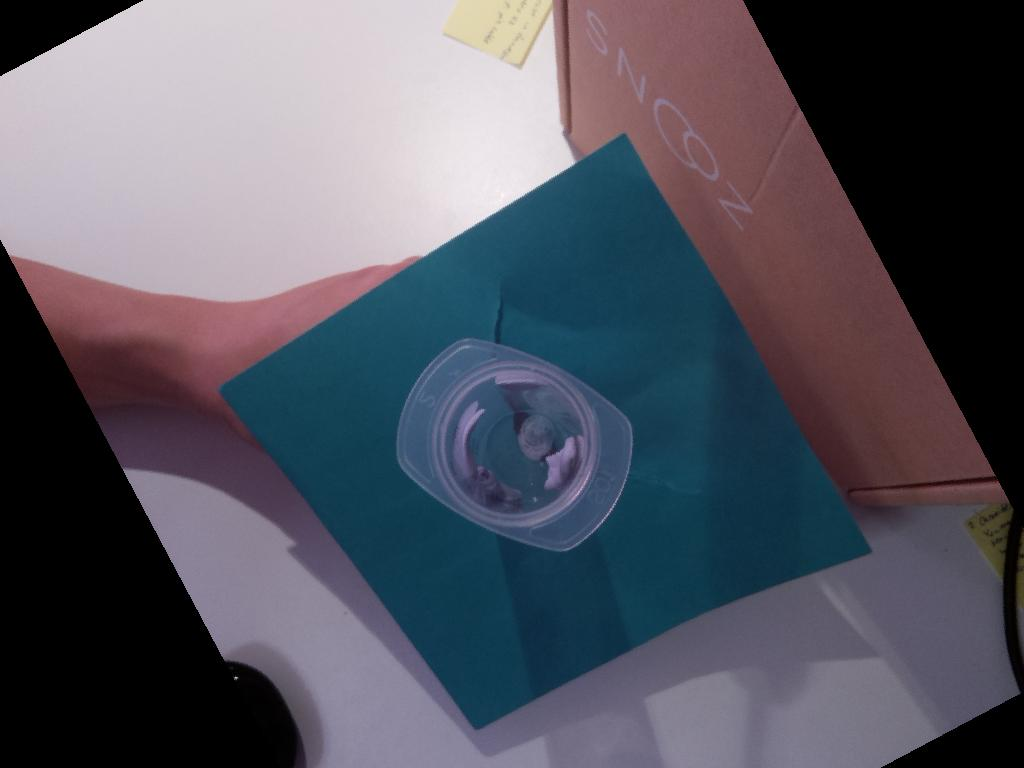dirty: (394, 337, 634, 553)
